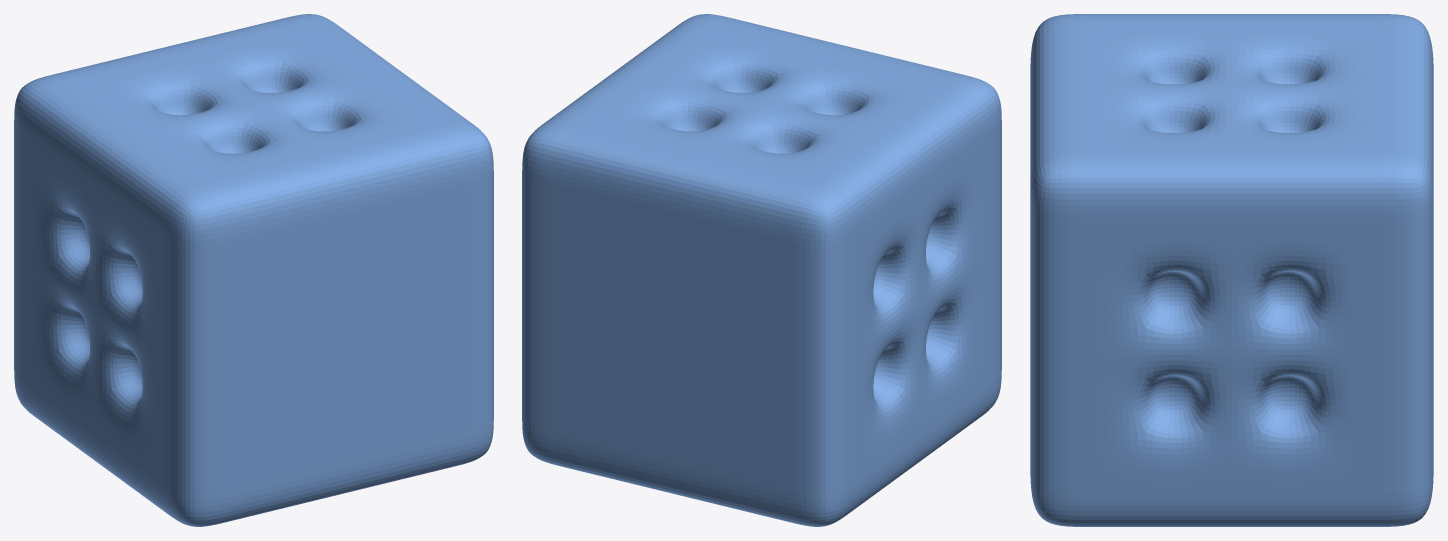
File: blue_1.1.1.fbx
3 views of the same model, side by side, from view 1: azimuth 30°, elevation 25°; view 2: azimuth 150°, elevation 25°; view 3: azimuth 270°, elevation 25° (orthographic). The views are drawn at different scales.
Parts seen in each view (by area): view 1: Cube.003; view 2: Cube.003; view 3: Cube.003.
Part boxes in pixels (box(x1,y1,x2,y2)): Cube.003: box(14, 14, 493, 526); Cube.003: box(522, 14, 1001, 526); Cube.003: box(1030, 14, 1433, 526).
Bounding box in the file's own units: 100 × 100 × 100.
